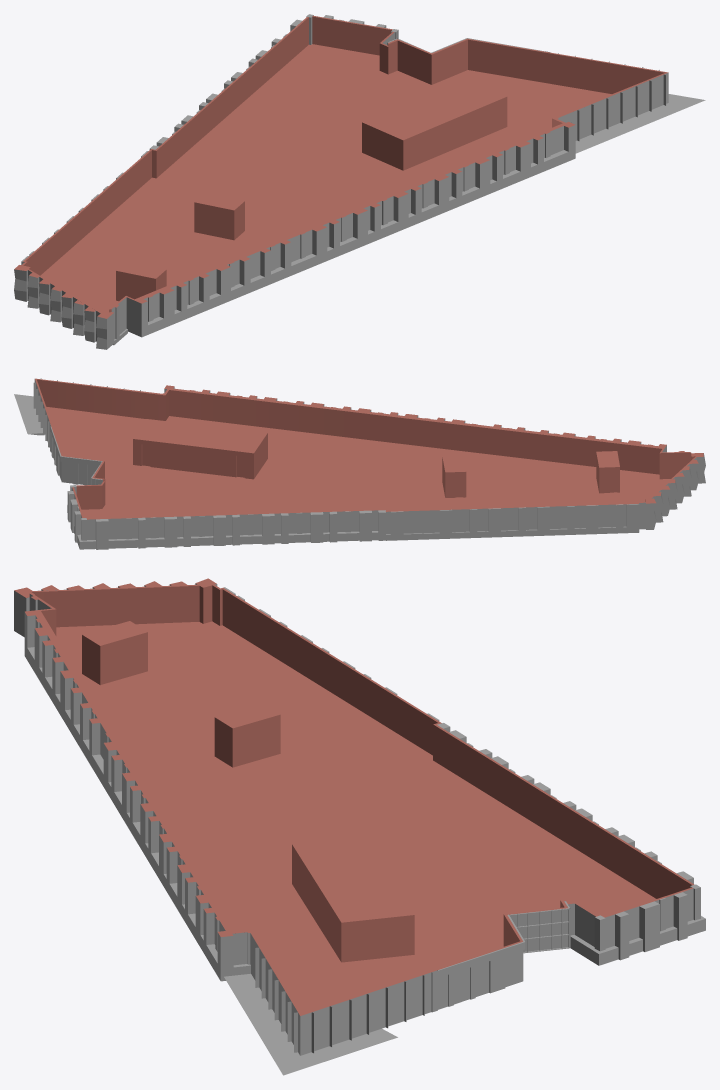
Rendered from JLL_Ruya_Region3DModels_Riyadh_Derived_HeroBuildings_Building 305_Floors_KSA_04_04105_B29_Floor_T0_2.fbx.
The picture shows the model from 3 angles, top to bottom: view 1: azimuth 30°, elevation 25°; view 2: azimuth 150°, elevation 25°; view 3: azimuth 270°, elevation 25°; orthographic projection. The views are drawn at different scales.
Parts seen in each view (by area): view 1: KSA_04_04105_B29_Floor_T0_2; view 2: KSA_04_04105_B29_Floor_T0_2; view 3: KSA_04_04105_B29_Floor_T0_2.
Boxes of the visible parts, x1=… form: KSA_04_04105_B29_Floor_T0_2: x1=14, y1=14, x2=705, y2=349; KSA_04_04105_B29_Floor_T0_2: x1=14, y1=378, x2=705, y2=549; KSA_04_04105_B29_Floor_T0_2: x1=14, y1=578, x2=705, y2=1075.
Size of what is drawn, in the model's own units: 12574 by 599 by 7974.
